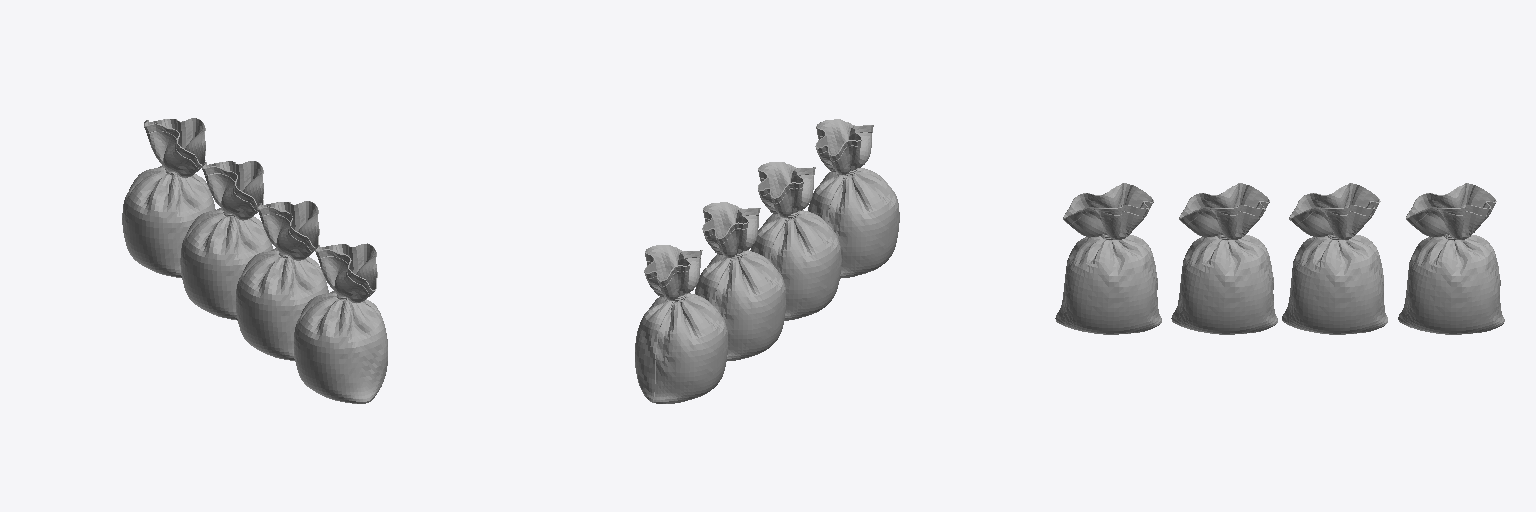
File: AUZT0KDK1II5QOT0SWVSGSE9Y.obj
The picture shows the model from 3 angles: view 1: azimuth 30°, elevation 25°; view 2: azimuth 150°, elevation 25°; view 3: azimuth 270°, elevation 25°; orthographic projection.
Parts seen in each view (by area): view 1: Object_money_bag_yuan_m_1, Object_money_bag_clean__0, Object_money_bag_euro_m_2, Object_money_bag_dollar_3; view 2: Object_money_bag_clean__0, Object_money_bag_dollar_3, Object_money_bag_yuan_m_1, Object_money_bag_euro_m_2; view 3: Object_money_bag_euro_m_2, Object_money_bag_yuan_m_1, Object_money_bag_dollar_3, Object_money_bag_clean__0.
Part boxes in pixels (x1,y1,x2,y2): Object_money_bag_yuan_m_1: (294,243,387,403); Object_money_bag_clean__0: (122,118,215,277); Object_money_bag_euro_m_2: (236,201,328,360); Object_money_bag_dollar_3: (180,161,272,320); Object_money_bag_clean__0: (635,245,727,403); Object_money_bag_dollar_3: (695,202,785,360); Object_money_bag_yuan_m_1: (808,119,899,278); Object_money_bag_euro_m_2: (750,162,841,320); Object_money_bag_euro_m_2: (1171,183,1277,334); Object_money_bag_yuan_m_1: (1055,183,1161,334); Object_money_bag_dollar_3: (1282,183,1387,334); Object_money_bag_clean__0: (1398,183,1504,334).
Size of the model in its own units: 0.49 by 0.8248 by 2.5.